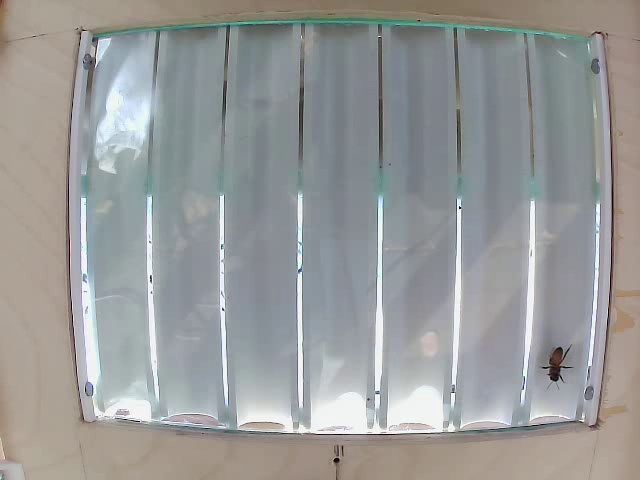bee: (541, 339, 589, 399)
